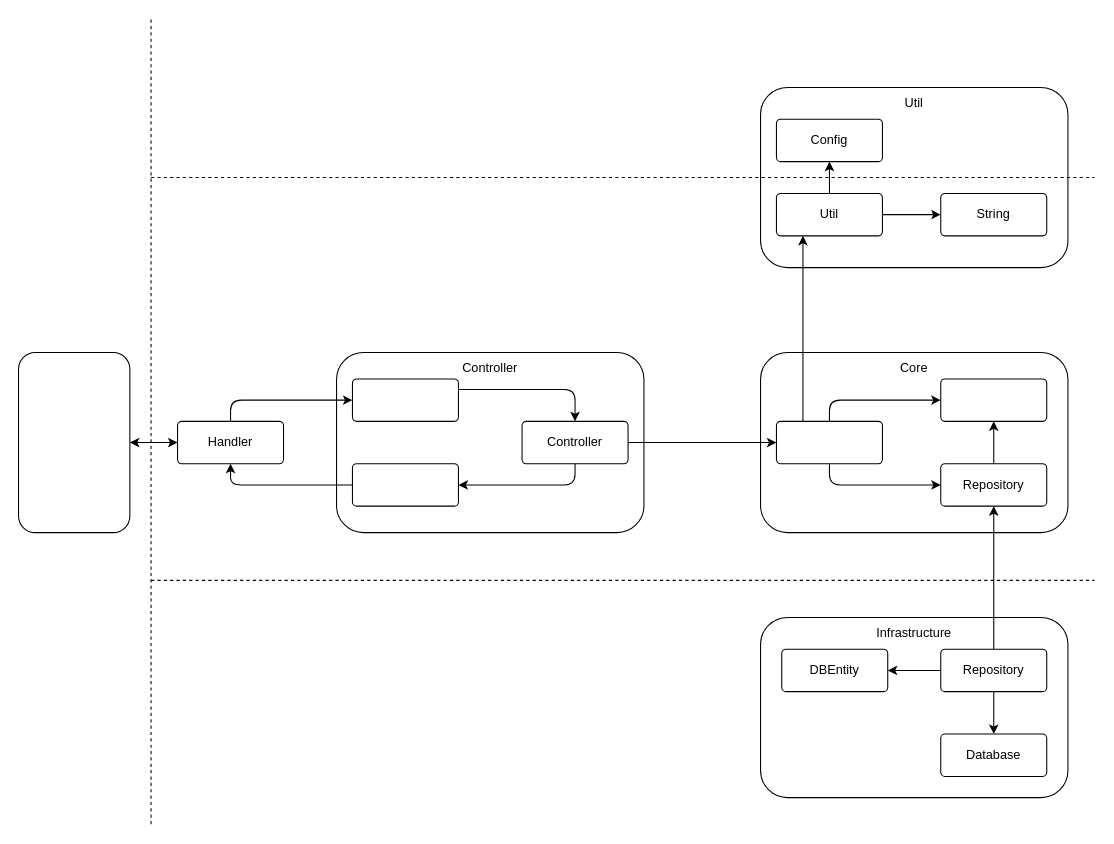
The diagram is 1114 pixels wide and 844 high, and some of its shapes have lost their labels. The shapes that lost their labels are listed below. From the top down, each one's box as (x1, y1, x2, y2) in pixels, then its label:
(351, 378, 458, 421): Request
(940, 378, 1047, 421): Entity
(17, 351, 130, 533): Web
(775, 420, 882, 464): Application Service
(351, 463, 458, 506): Response
